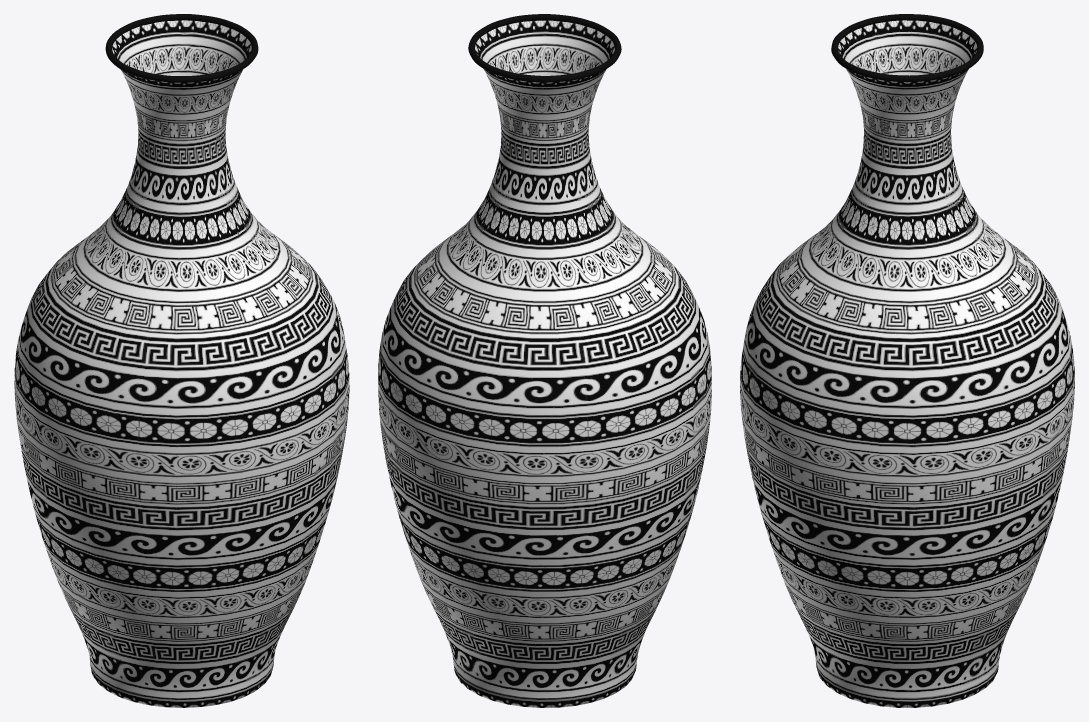
File: vase.glb
3 renders of one model, left to right at view 1: azimuth 30°, elevation 25°; view 2: azimuth 150°, elevation 25°; view 3: azimuth 270°, elevation 25°, orthographic.
Visible parts, largest first — view 1: vase; view 2: vase; view 3: vase.
Part boxes in pixels (box(x1,y1,x2,y2)): vase: box(14, 14, 349, 707); vase: box(378, 14, 711, 707); vase: box(740, 14, 1074, 707).
Bounding box in the file's own units: 0.2466 × 0.5085 × 0.2461.
Materials: 1 (1 with a texture image).
